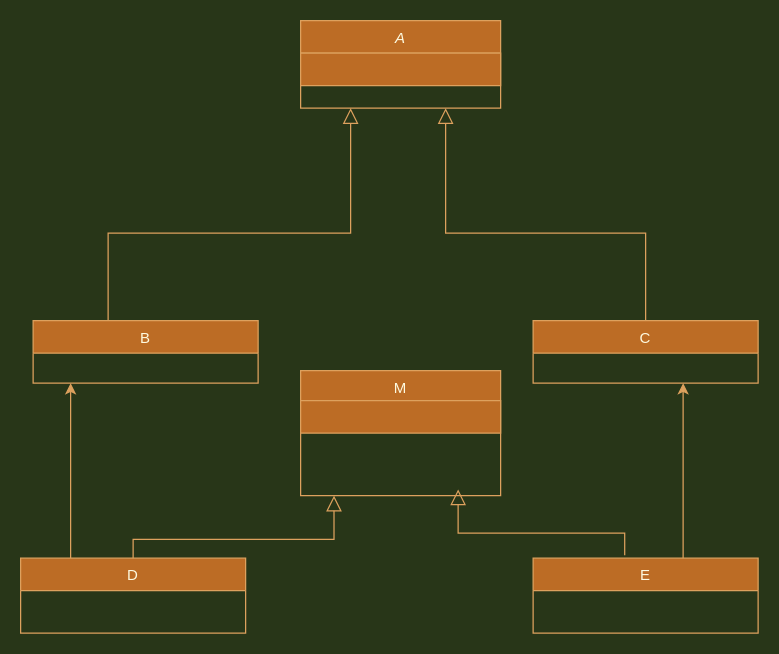
Some shapes in this 779 by 654 pixel diagram are drawn without their labels. Each missing label, with the box of its shape:
def print_total(): (299, 399, 501, 433)
total: (299, 52, 501, 86)
